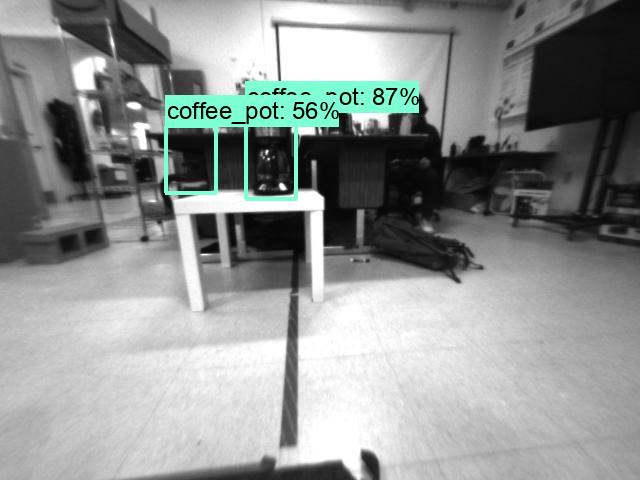coffee_pot: (246, 113, 300, 196)
